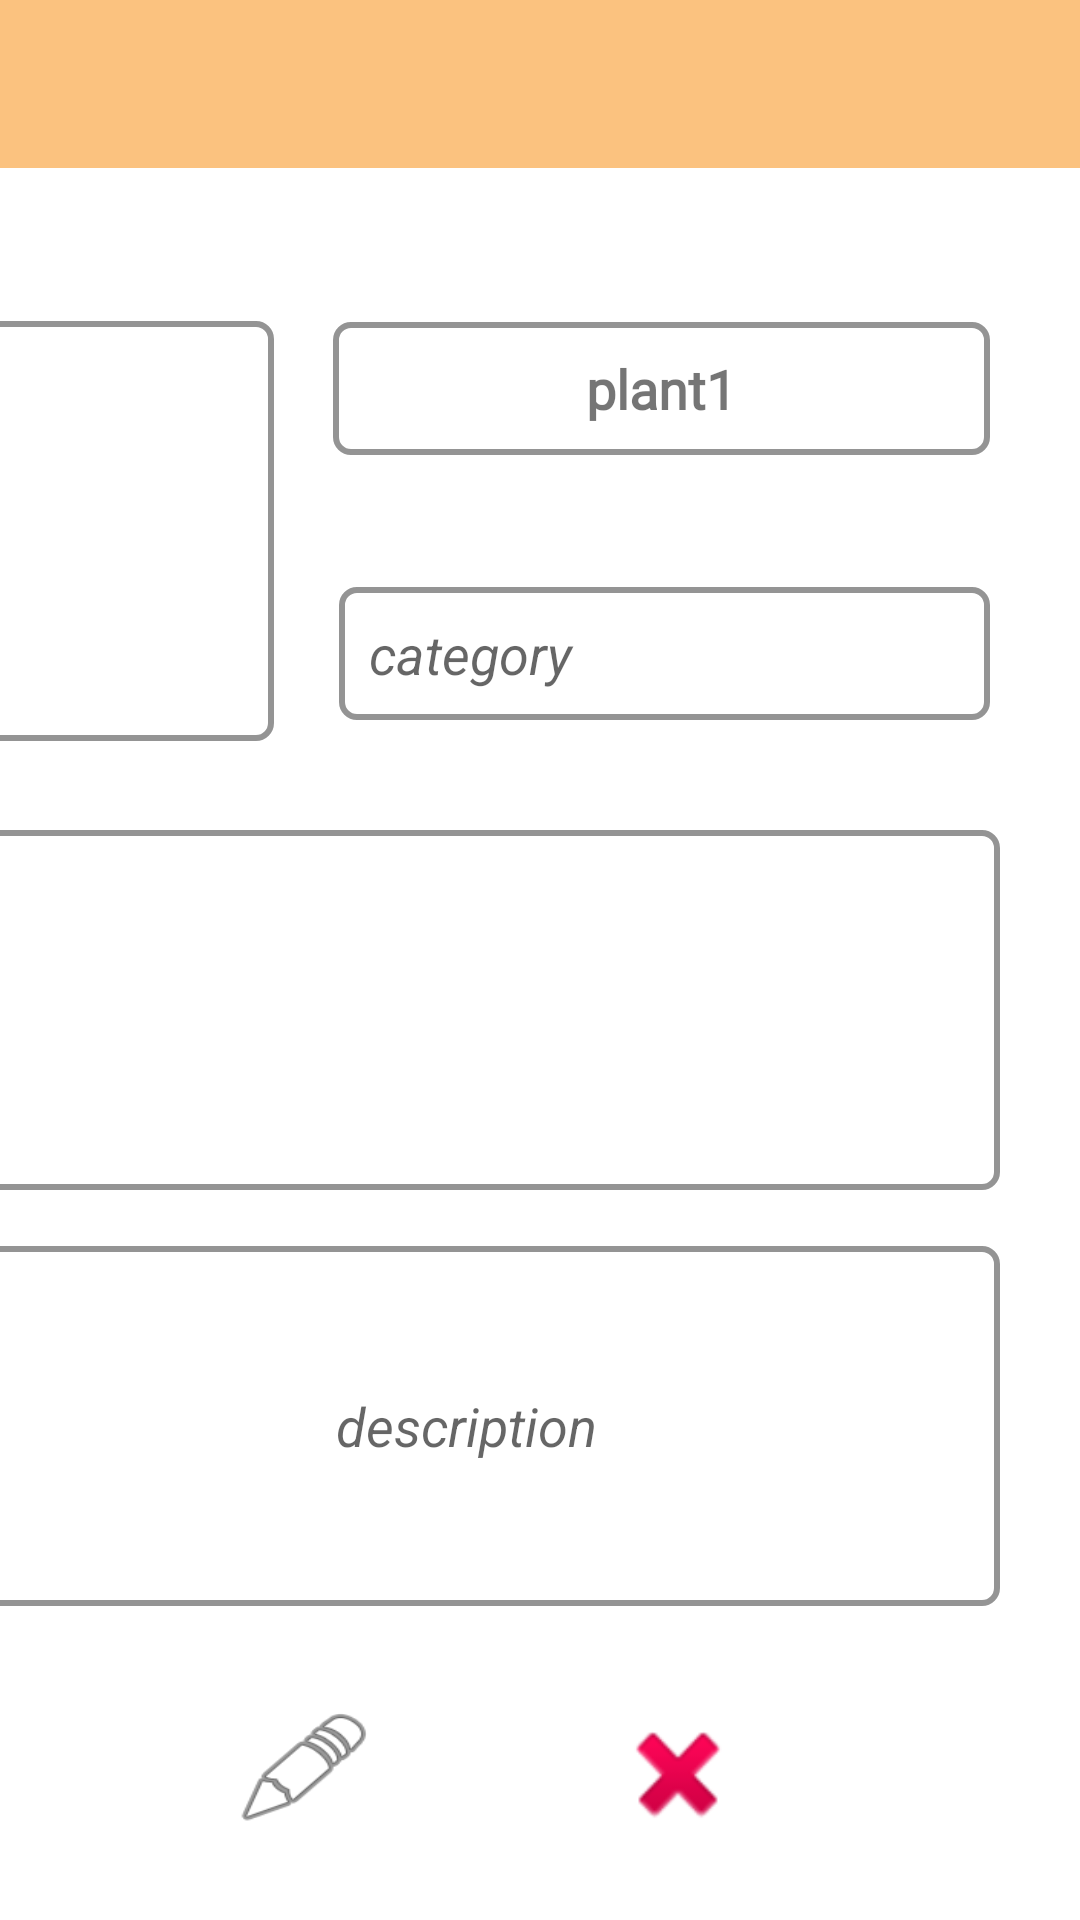

Where to tap for icons on this 1080×1920 app screen, as point (x, y):
delete: point (678, 1774)
edit: point (304, 1767)
